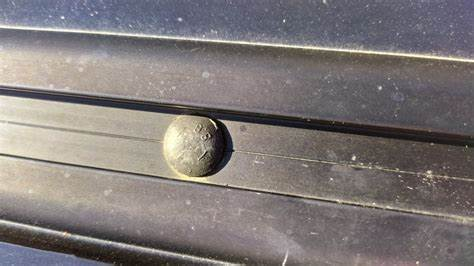rivet: (162, 111, 228, 180)
